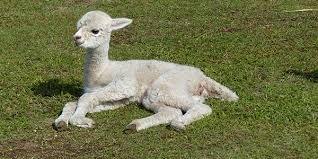alpaca: (52, 10, 240, 135)
